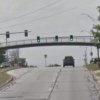Bridge: (6, 22, 97, 56)
